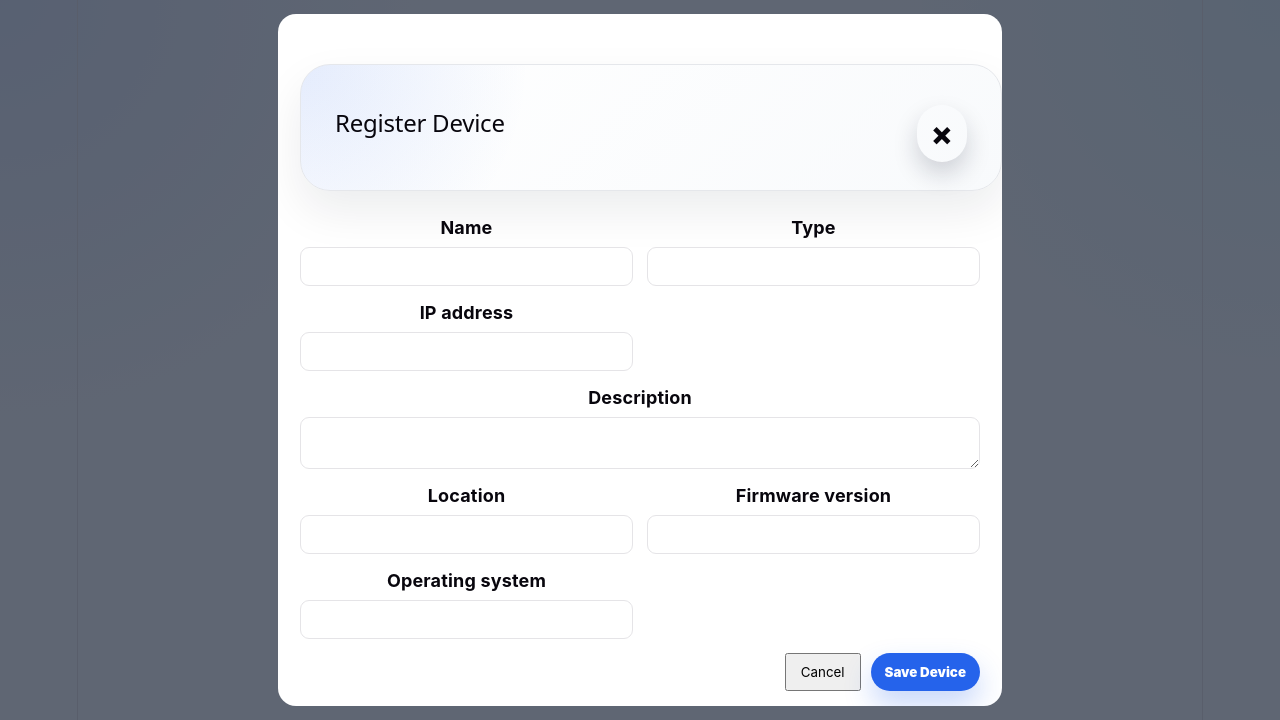
Test case: DeviceManagementDialog › validates required registration fields
Click the button "Save Device". click: {"x": 925, "y": 672}
box: [870,654,980,692]
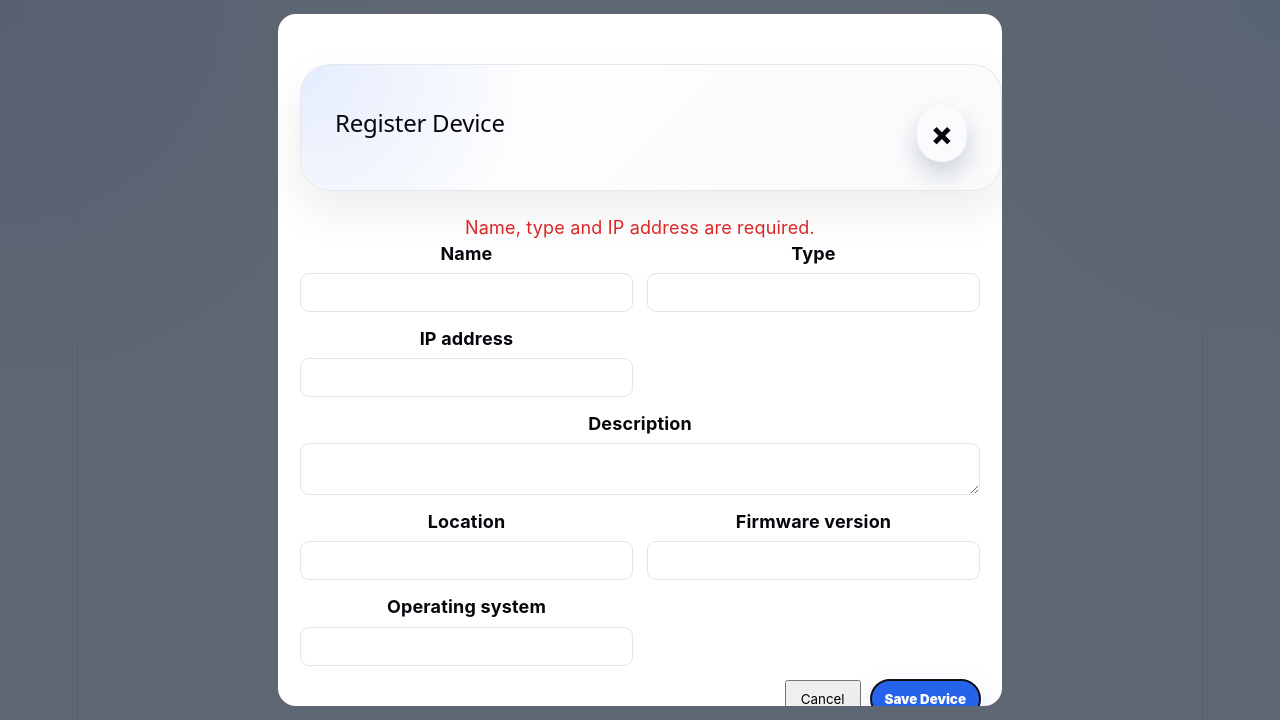
Result: the message shows "required" at [465,217,815,238]
